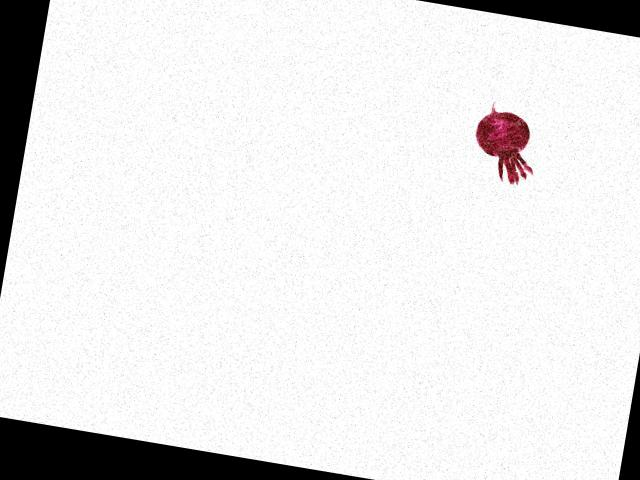beet: (468, 98, 543, 187)
